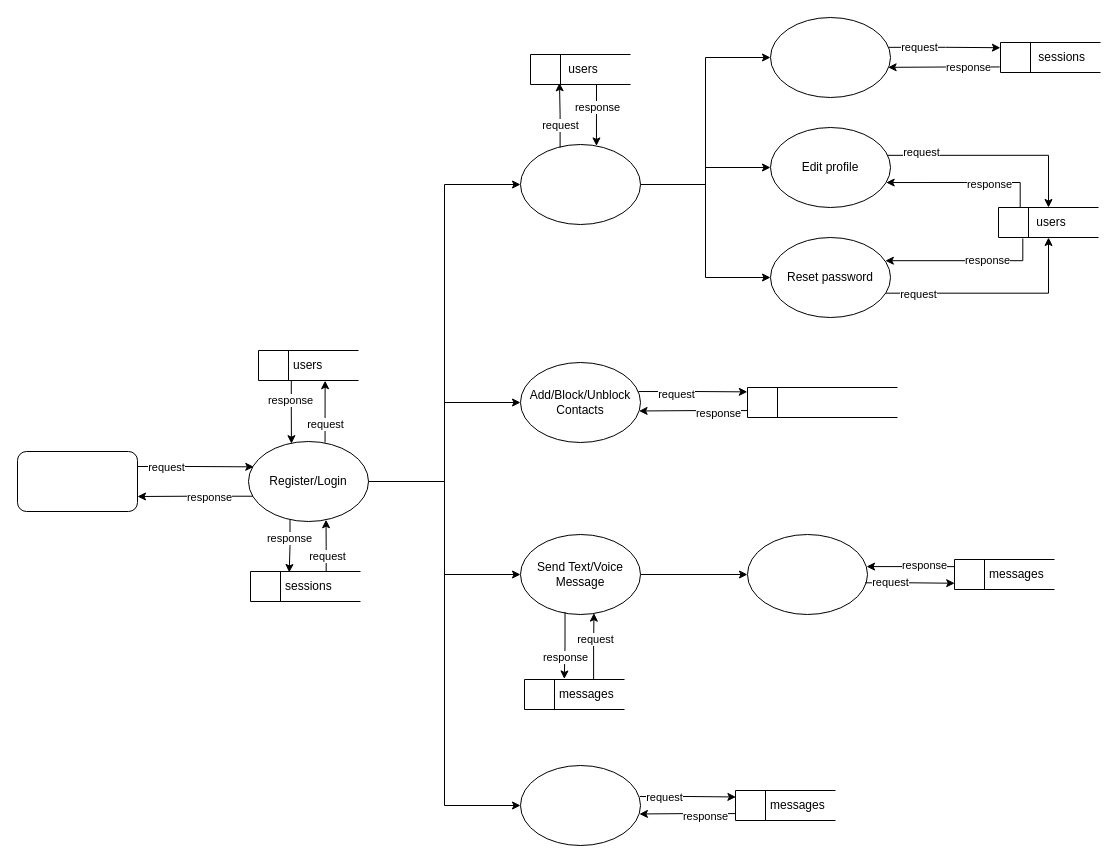
This 1118x863 diagram has some shape labels left out. Here are the shapes that lost their labels. From the top down, the centre of each, then its label:
point 830,57: Logout
point 580,184: View profile
point 822,402: contacts_<userid>
point 77,481: User
point 807,574: Delete/Forward/ message
point 580,805: Receive Messages
